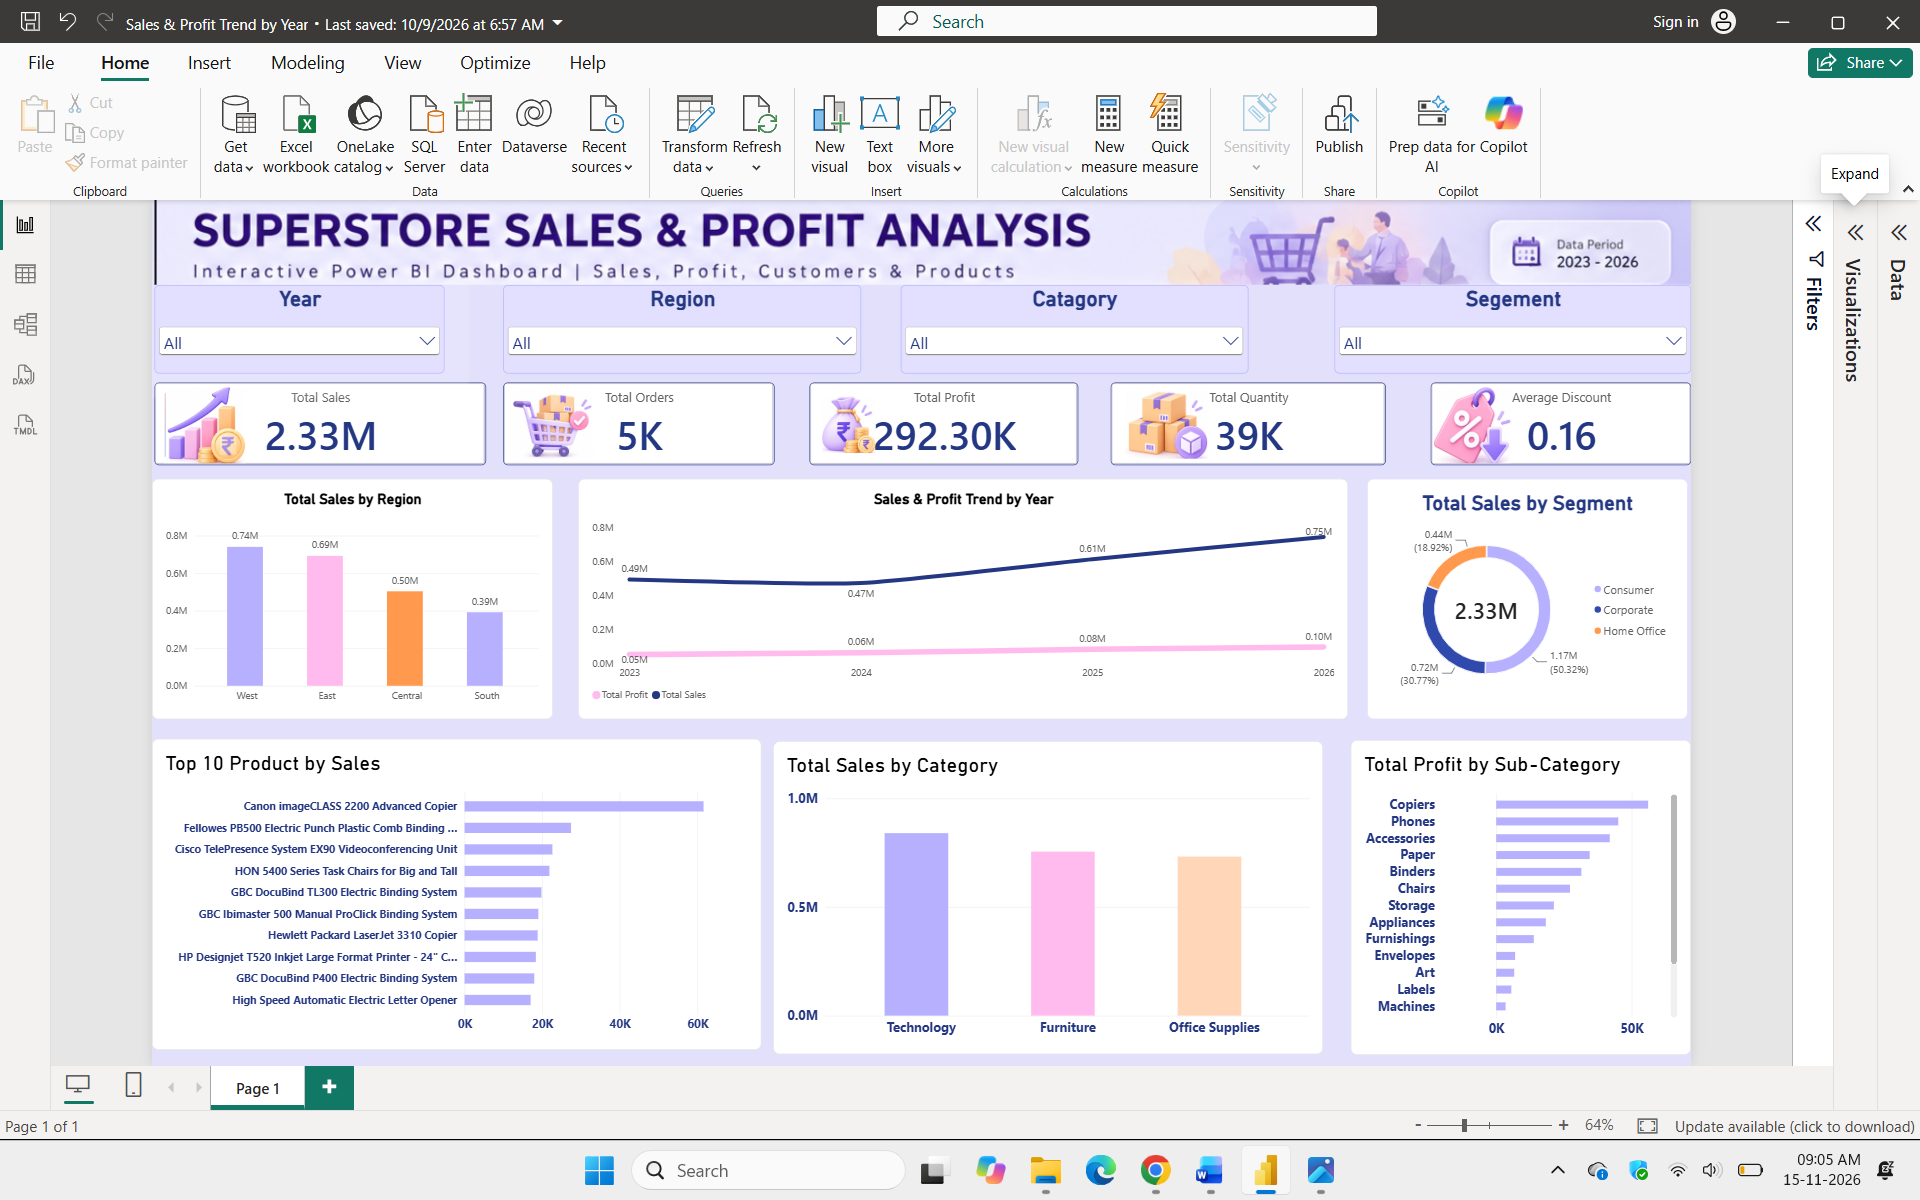

What the dashboard file says about the page in this screenshot:
{"tool":"powerbi","page":{"name":"Page 1","canvas":[1920,1080],"ordinal":0},"visuals":[{"type":"cardVisual","fields":{"Data":["samplesuperstore.Total Orders"]},"box":[438.3,228.3,338.3,103.3],"z":0},{"type":"cardVisual","fields":{"Data":["samplesuperstore.Total Profit"]},"box":[820,228.3,335,103.3],"z":1000},{"type":"cardVisual","fields":{"Data":["samplesuperstore.Total Quantity"]},"box":[1195,228.3,343.3,103.3],"z":2000},{"type":"cardVisual","title":"Total Sales","fields":{"Data":["samplesuperstore.Total Sales"]},"box":[3.3,228.3,413.3,103.3],"z":3000},{"type":"cardVisual","fields":{"Data":["samplesuperstore.Average Discount"]},"box":[1595,228.3,325,103.3],"z":4000},{"type":"lineChart","title":"Sales & Profit Trend by Year","fields":{"Category":["samplesuperstore.Year"],"Y":["samplesuperstore.Total Profit","samplesuperstore.Total Sales"]},"box":[532.3,348.3,960,300],"z":5000},{"type":"lineClusteredColumnComboChart","fields":{"Category":["samplesuperstore.Category"],"Y":["samplesuperstore.Total Sales"]},"box":[775.3,675.7,686,390],"z":6000},{"type":"clusteredBarChart","fields":{"Category":["samplesuperstore.Sub-Category"],"Y":["samplesuperstore.Total Profit"]},"box":[1495.7,672.9,424.3,392.9],"z":7000},{"type":"clusteredColumnChart","fields":{"Category":["samplesuperstore.Region"],"Y":["samplesuperstore.Total Sales"]},"box":[0,347,499.7,300],"z":8000},{"type":"donutChart","fields":{"Category":["samplesuperstore.Segment"],"Y":["samplesuperstore.Total Sales"]},"box":[1515,348.3,399.7,300],"z":9000},{"type":"clusteredBarChart","title":"Top 10 Product by Sales","fields":{"Category":["samplesuperstore.Product Name"],"Y":["samplesuperstore.Total Sales"]},"box":[0,671.7,759.7,388.3],"z":10000},{"type":"slicer","title":"Year","fields":{"Values":["samplesuperstore.Year"]},"box":[3.3,106.7,361.7,110],"z":11000},{"type":"slicer","title":"Region","fields":{"Values":["samplesuperstore.Region"]},"box":[438.3,106.7,446.7,110],"z":12000},{"type":"slicer","title":"Catagory","fields":{"Values":["samplesuperstore.Category"]},"box":[933.8,106,433.3,110],"z":13000},{"type":"slicer","title":"Segement","fields":{"Values":["samplesuperstore.Segment"]},"box":[1475,106.7,445,110],"z":14000},{"type":"image","box":[2.9,0,1917.1,105.7],"z":15000},{"type":"image","box":[3.5,233.7,125.6,94.2],"z":16000},{"type":"image","box":[443,233.7,113.4,89],"z":17000},{"type":"image","box":[835.5,228.5,66.3,102.9],"z":18000},{"type":"image","box":[1207,237.2,116.9,85.5],"z":19001},{"type":"image","box":[1594.2,233.7,102.9,94.2],"z":19002}]}

Visuals, with their boxes on the page's 1920x1080 design canvas (x1, y1, x2, y2). These are canvas units, not pixel positions in the 1920x1200 screenshot, which may show the page scaled, cropped or inside an application window:
cardVisual - samplesuperstore.Total Orders: box(438, 228, 777, 332)
cardVisual - samplesuperstore.Total Profit: box(820, 228, 1155, 332)
cardVisual - samplesuperstore.Total Quantity: box(1195, 228, 1538, 332)
"Total Sales" cardVisual: box(3, 228, 417, 332)
cardVisual - samplesuperstore.Average Discount: box(1595, 228, 1920, 332)
"Sales & Profit Trend by Year" lineChart: box(532, 348, 1492, 648)
lineClusteredColumnComboChart - samplesuperstore.Category x samplesuperstore.Total Sales: box(775, 676, 1461, 1066)
clusteredBarChart - samplesuperstore.Sub-Category x samplesuperstore.Total Profit: box(1496, 673, 1920, 1066)
clusteredColumnChart - samplesuperstore.Region x samplesuperstore.Total Sales: box(0, 347, 500, 647)
donutChart - samplesuperstore.Segment x samplesuperstore.Total Sales: box(1515, 348, 1915, 648)
"Top 10 Product by Sales" clusteredBarChart: box(0, 672, 760, 1060)
"Year" slicer: box(3, 107, 365, 217)
"Region" slicer: box(438, 107, 885, 217)
"Catagory" slicer: box(934, 106, 1367, 216)
"Segement" slicer: box(1475, 107, 1920, 217)
image: box(3, 0, 1920, 106)
image: box(4, 234, 129, 328)
image: box(443, 234, 556, 323)
image: box(836, 228, 902, 331)
image: box(1207, 237, 1324, 323)
image: box(1594, 234, 1697, 328)
